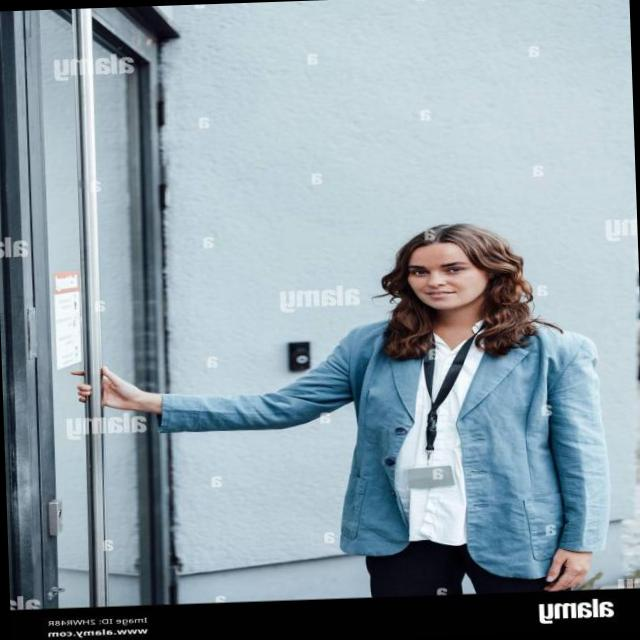id_card: (396, 315, 474, 490)
